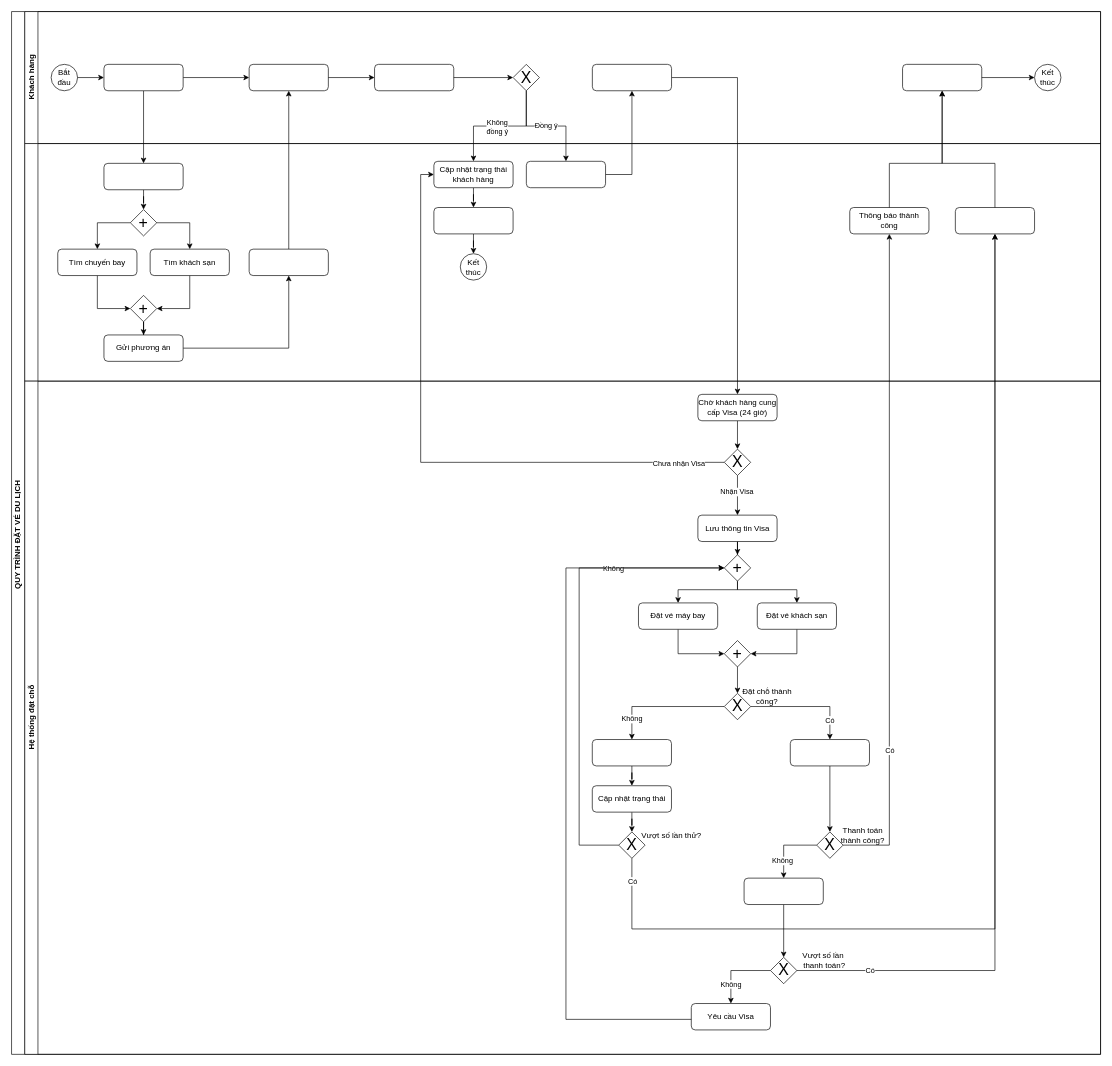
Image size: 1112x1066. Some labels were removed from this diagram. Each missing label, with the box of its shape:
Chờ phản hồi khách hàng (24 giờ): (248, 248, 328, 276)
Cung cấp Visa: (592, 64, 672, 91)
Gửi yêu cầu đặt chỗ: (103, 64, 183, 91)
Hủy đặt chỗ: (592, 739, 671, 766)
Khôi phục trạng thái: (743, 877, 823, 905)
Nhận thông báo: (902, 64, 982, 91)
Thanh toán: (790, 739, 869, 766)
Thông báo khách hàng: (433, 207, 513, 234)
Thông báo thất bại: (955, 207, 1035, 234)
Tiếp nhận phương án: (248, 64, 328, 91)
Tiếp nhận yêu cầu: (103, 163, 183, 190)
Yêu cầu cung cấp Visa: (526, 161, 606, 188)
Đánh giá phương án đặt chỗ: (374, 64, 454, 91)
Đại lý du lịch: (24, 143, 1101, 381)
